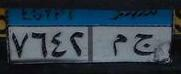2: (70, 30, 86, 57)
4: (51, 31, 63, 59)
6: (33, 31, 47, 57)
7: (12, 31, 29, 58)
jeem: (132, 30, 154, 56)
meem: (110, 32, 128, 56)
